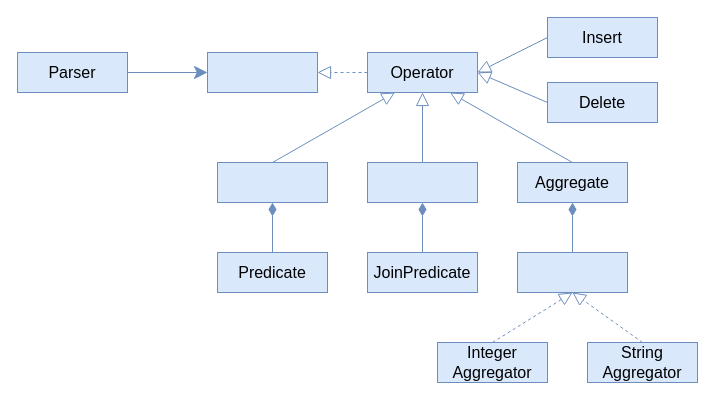
The diagram is 715 pixels wide and 400 high, and some of its shapes have lost their labels. Here are the shapes that lost their labels. From the top down, the centre of each, then its label:
point 262,72: OpIterator
point 272,182: Filter
point 422,182: Join
point 572,272: Aggregator
